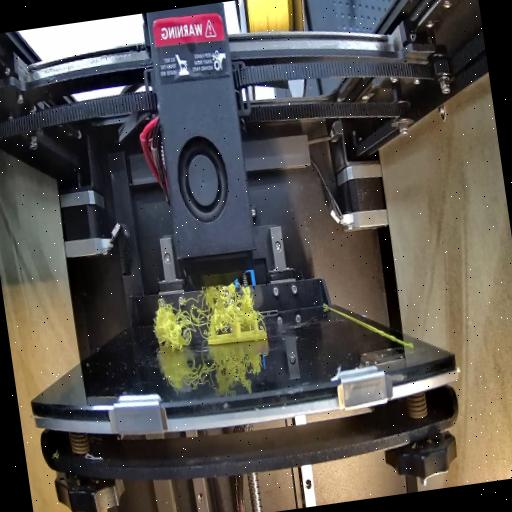spaghetti: (198, 269, 262, 337), (148, 288, 208, 348)
